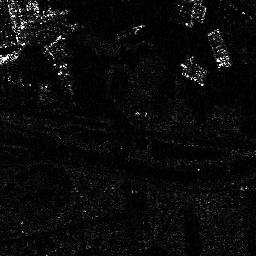ship: (206, 28, 233, 69)
